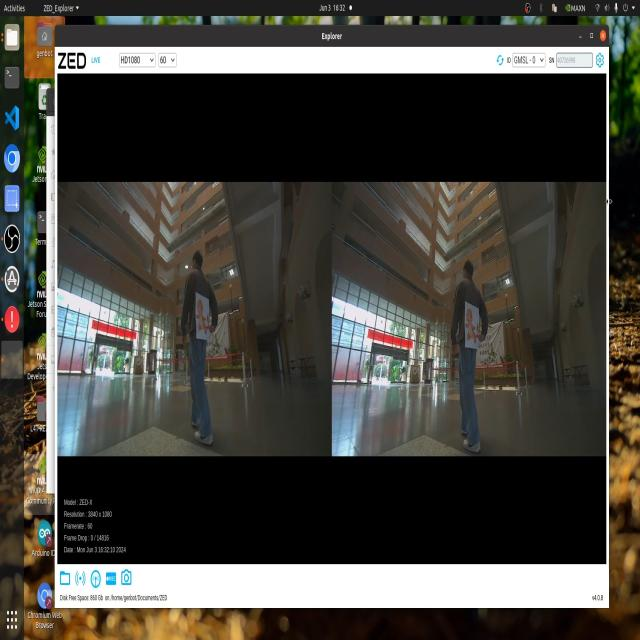red: (462, 298, 483, 356), (188, 294, 209, 341)
